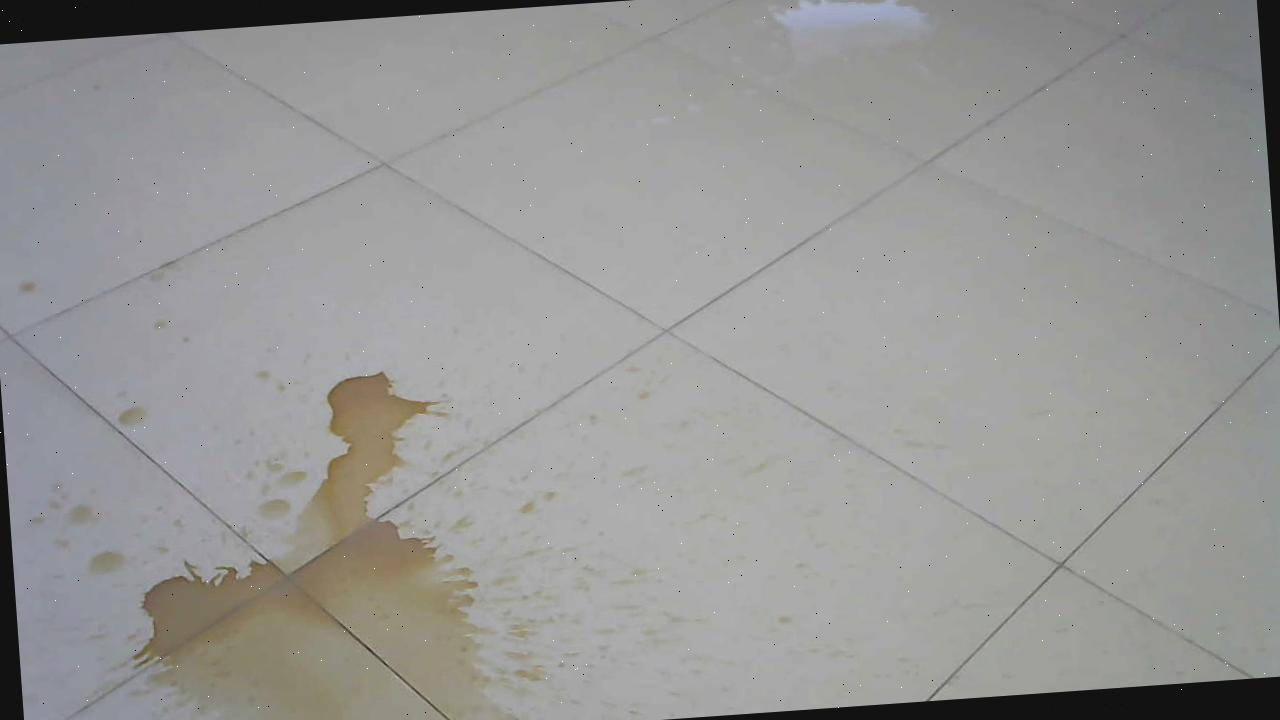dirty_floor: (53, 346, 574, 720)
